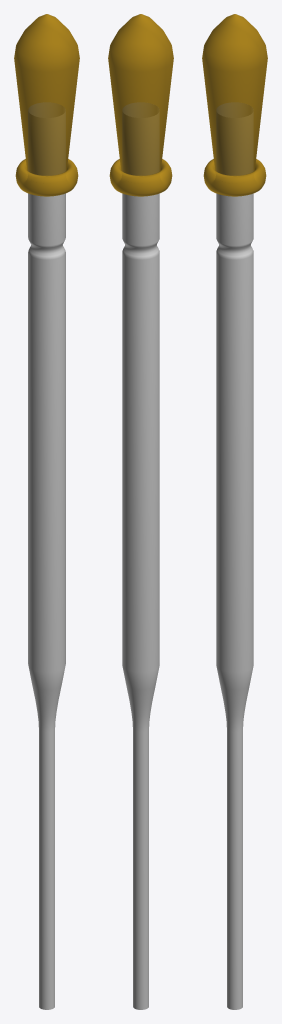
The model's file is Pasteurpipette.gltf.
The picture shows the model from 3 angles, left to right: view 1: azimuth 90°, elevation 25°; view 2: azimuth 150°, elevation 25°; view 3: azimuth 330°, elevation 25°; orthographic projection.
Visible parts, largest first — view 1: Cylinder.240, Torus.008; view 2: Cylinder.240, Torus.008; view 3: Cylinder.240, Torus.008.
Boxes of the visible parts, x1,y1,x2,y2 form: Cylinder.240: [28, 102, 65, 1009]; Torus.008: [14, 14, 79, 196]; Cylinder.240: [122, 102, 159, 1009]; Torus.008: [108, 14, 173, 196]; Cylinder.240: [216, 102, 253, 1009]; Torus.008: [202, 14, 267, 196].
Bounding box in the file's own units: 0.0159 × 0.2647 × 0.0159.
